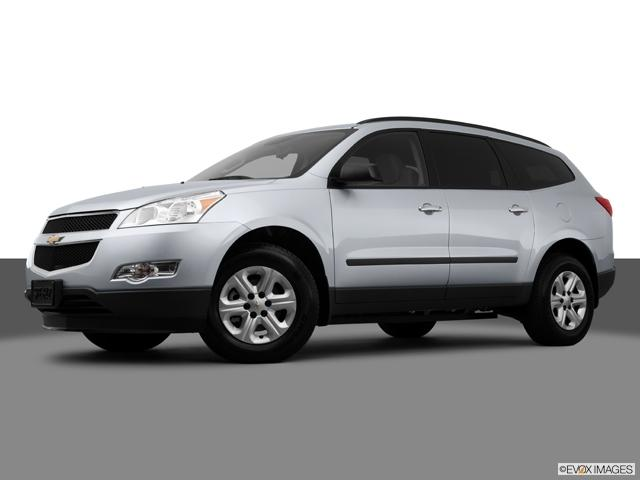car: (19, 78, 640, 435)
